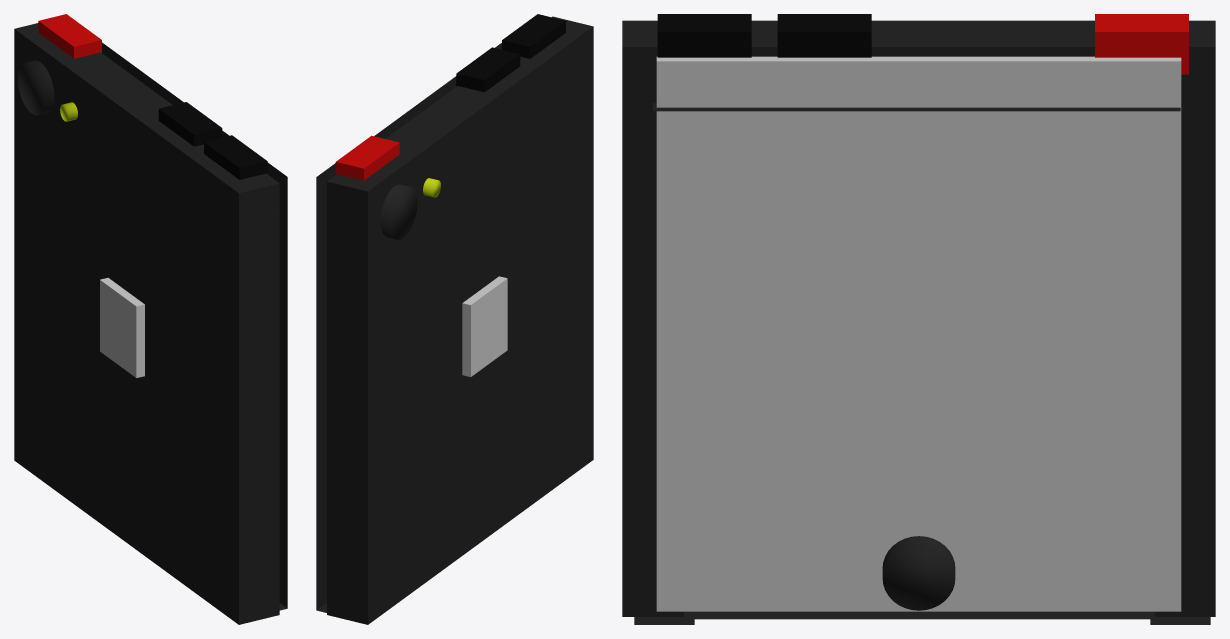
Rendered from Tabletobj.obj.
3 renders of one model, left to right at view 1: azimuth 30°, elevation 25°; view 2: azimuth 150°, elevation 25°; view 3: azimuth 270°, elevation 25°, orthographic. The views are drawn at different scales.
Visible parts, largest first — view 1: Tablet_Cube; view 2: Tablet_Cube; view 3: Tablet_Cube.
Part boxes in pixels (x1,y1,x2,y2): Tablet_Cube: [14, 14, 287, 624]; Tablet_Cube: [316, 14, 593, 624]; Tablet_Cube: [622, 14, 1215, 624].
Bounding box in the file's own units: 0.5766 × 3.41 × 3.14.
